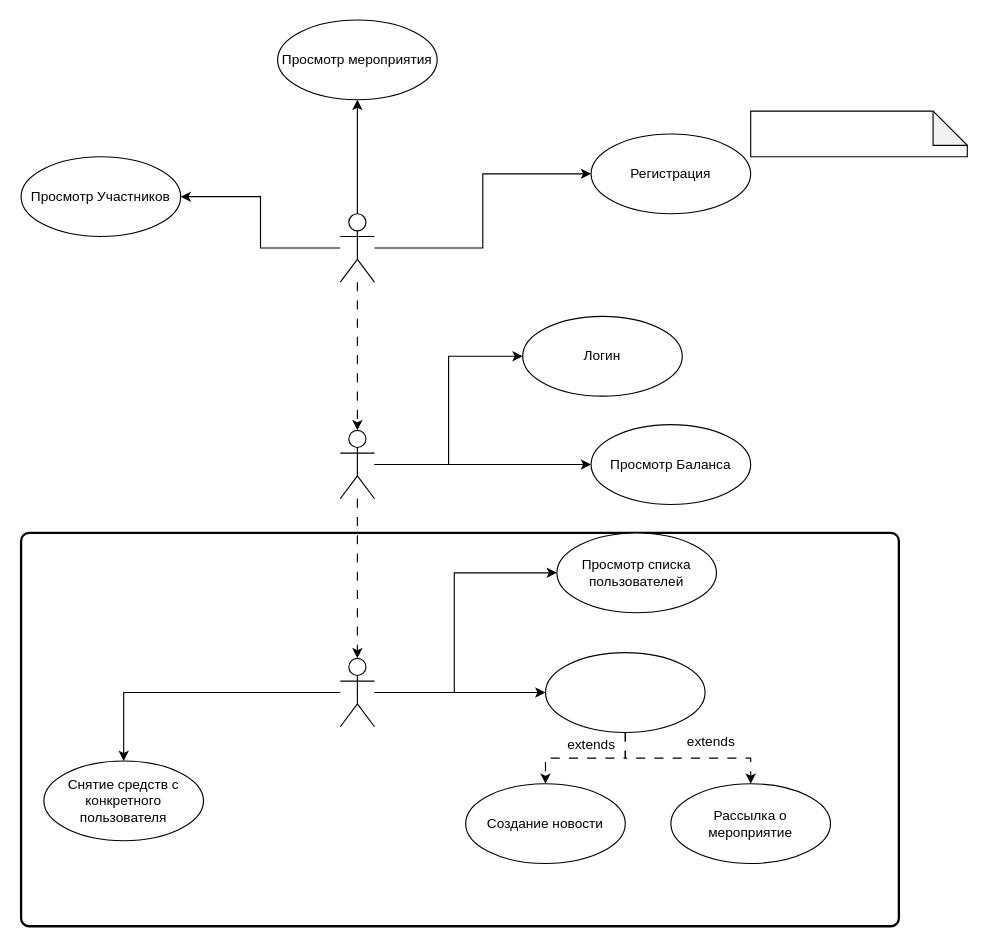
Some shapes in this 987 by 947 pixel diagram are drawn without their labels. The box of each missing label's shape, as (x1, y1, x2, y2) in pixels:
Авторизация: (750, 110, 967, 157)
Админ: (339, 657, 374, 727)
Неавторизированный Пользователь: (339, 213, 374, 282)
Новости: (544, 652, 705, 732)
Пользователь: (339, 429, 374, 499)
